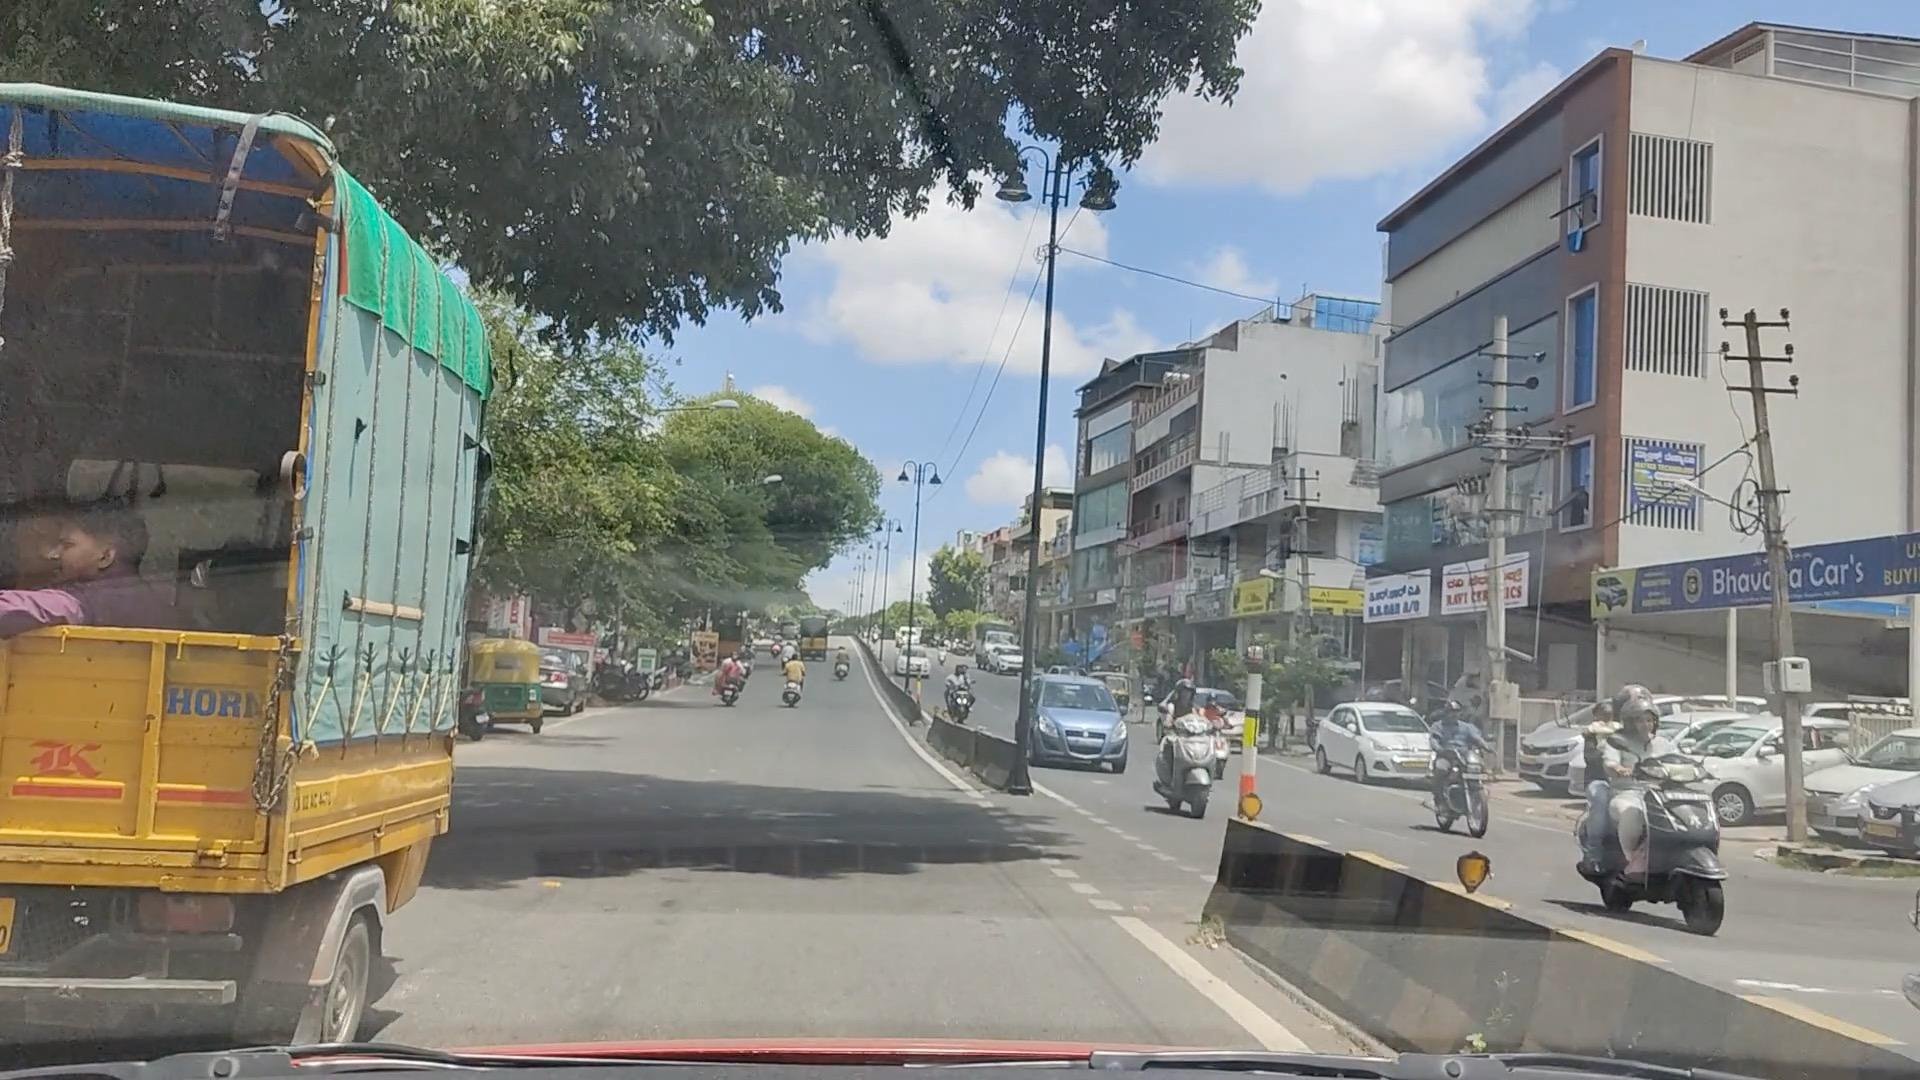HMV: (0, 131, 343, 1080)
